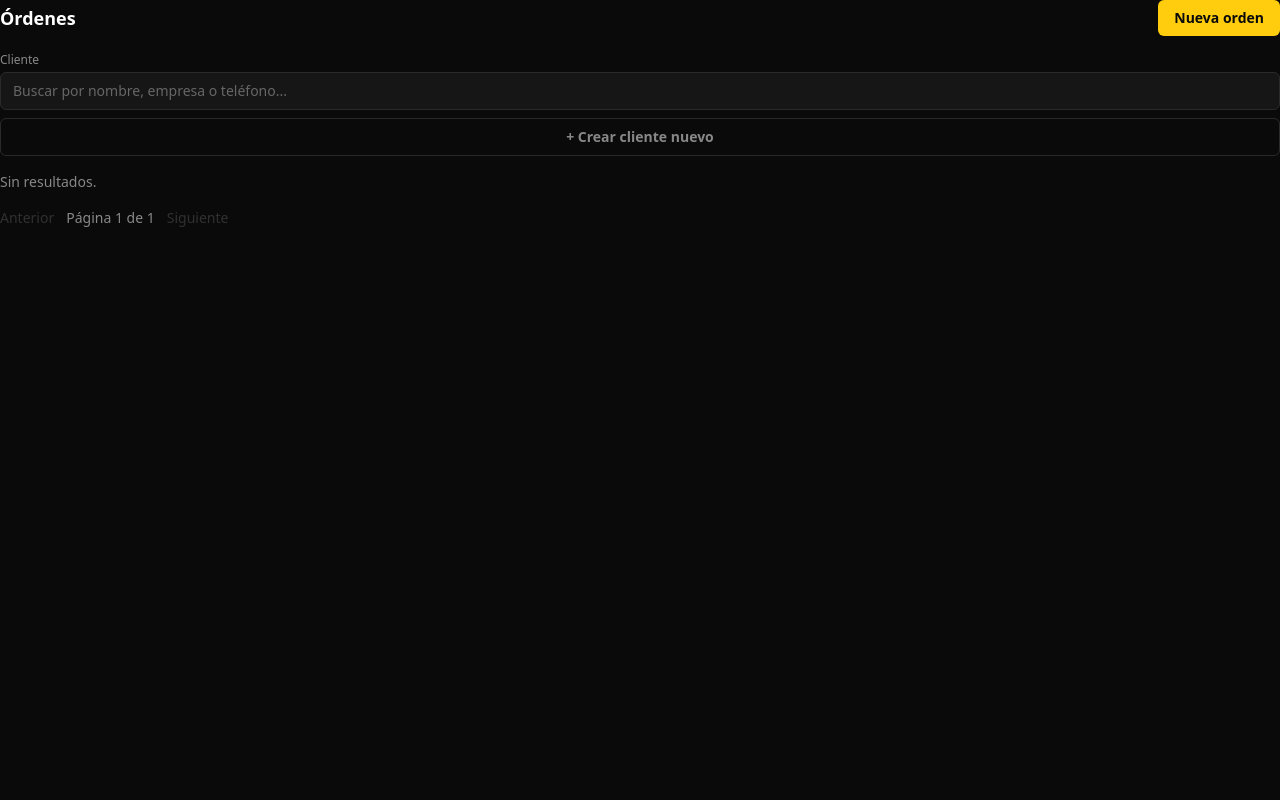
Test: OrdersPage + OrderFormModal (integración) › crear una orden para un cliente existente refresca la lista y descarga el comprobante
Expected: the text "Sin resultados." is shown, [0,172,96,191]
Click the button "Nueva orden". click: click(1219, 18)
box: [1158,0,1279,36]
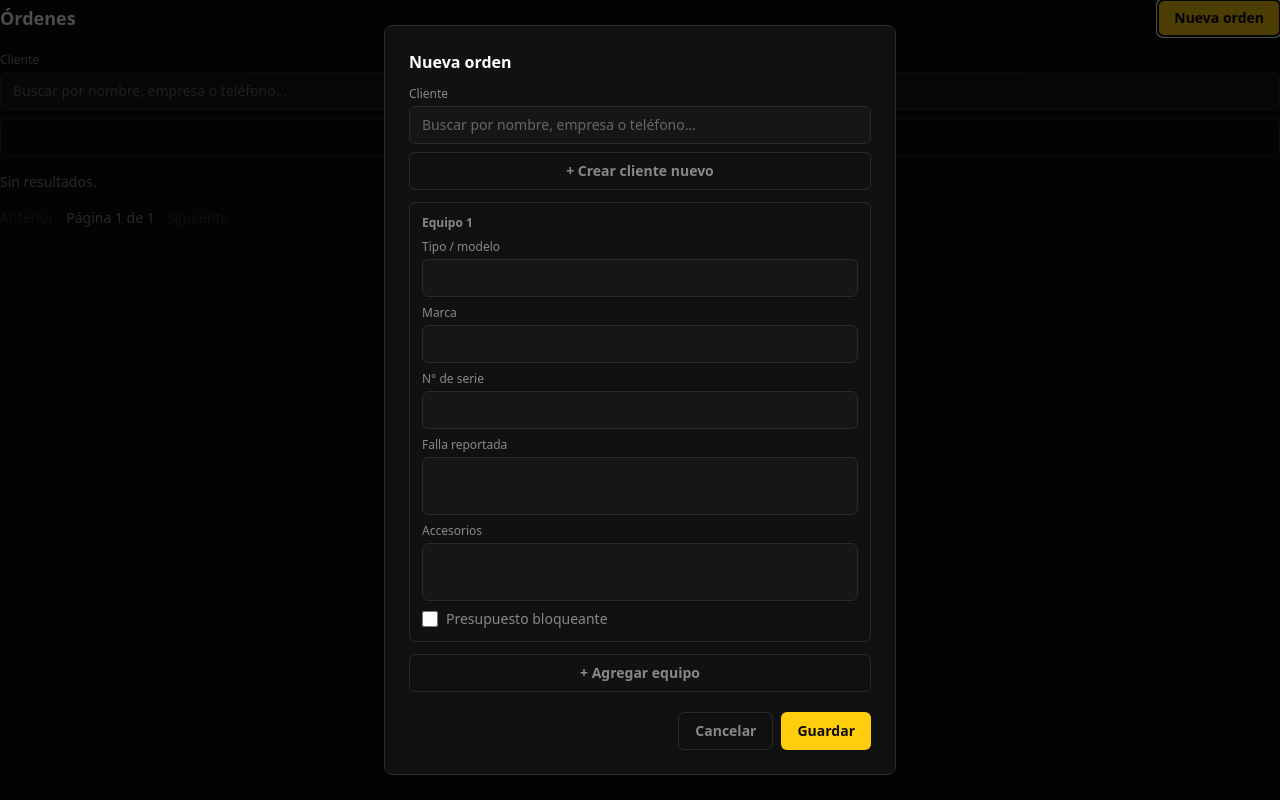
Type "Consola DMX" into the field labelled "Tipo / modelo". click: (640, 278)
box: [422,259,858,297]
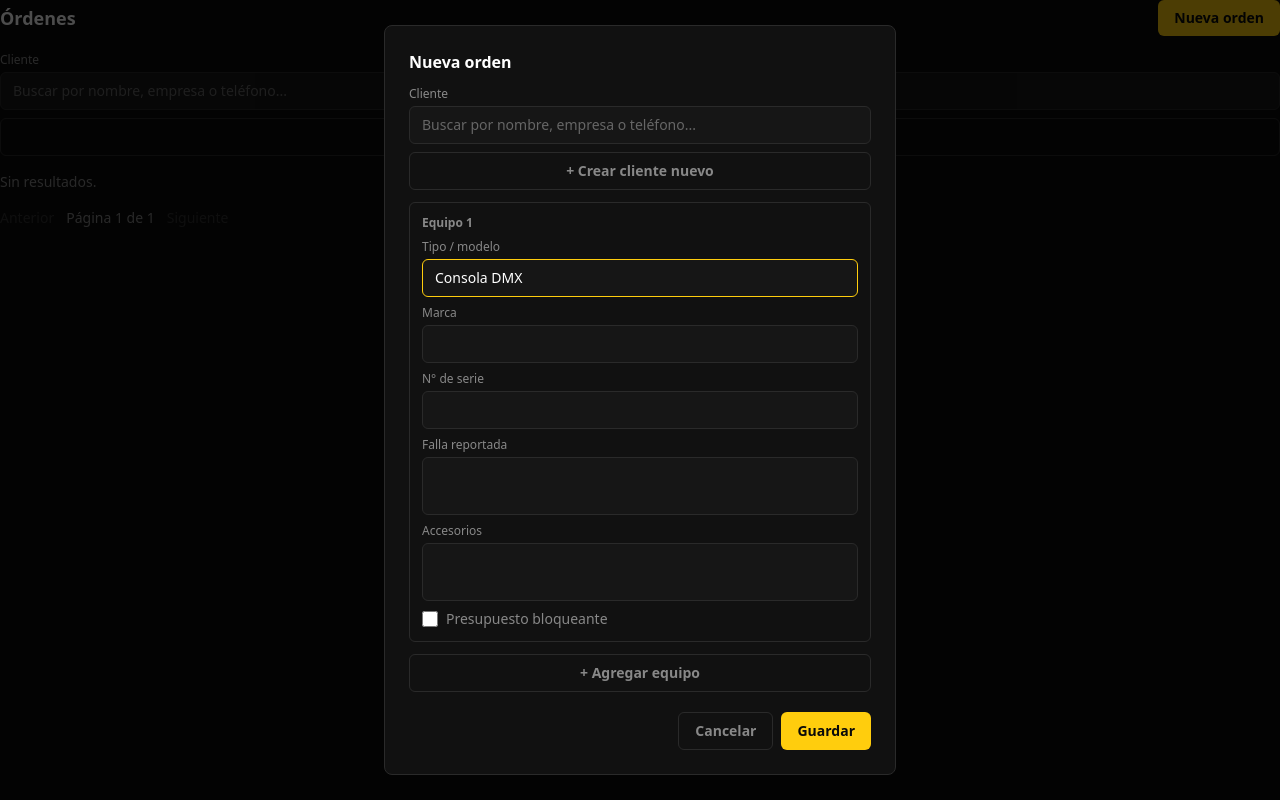
Type "No enciende" into the text box labelled "Falla reportada". click: (640, 486)
box: [422,457,858,515]
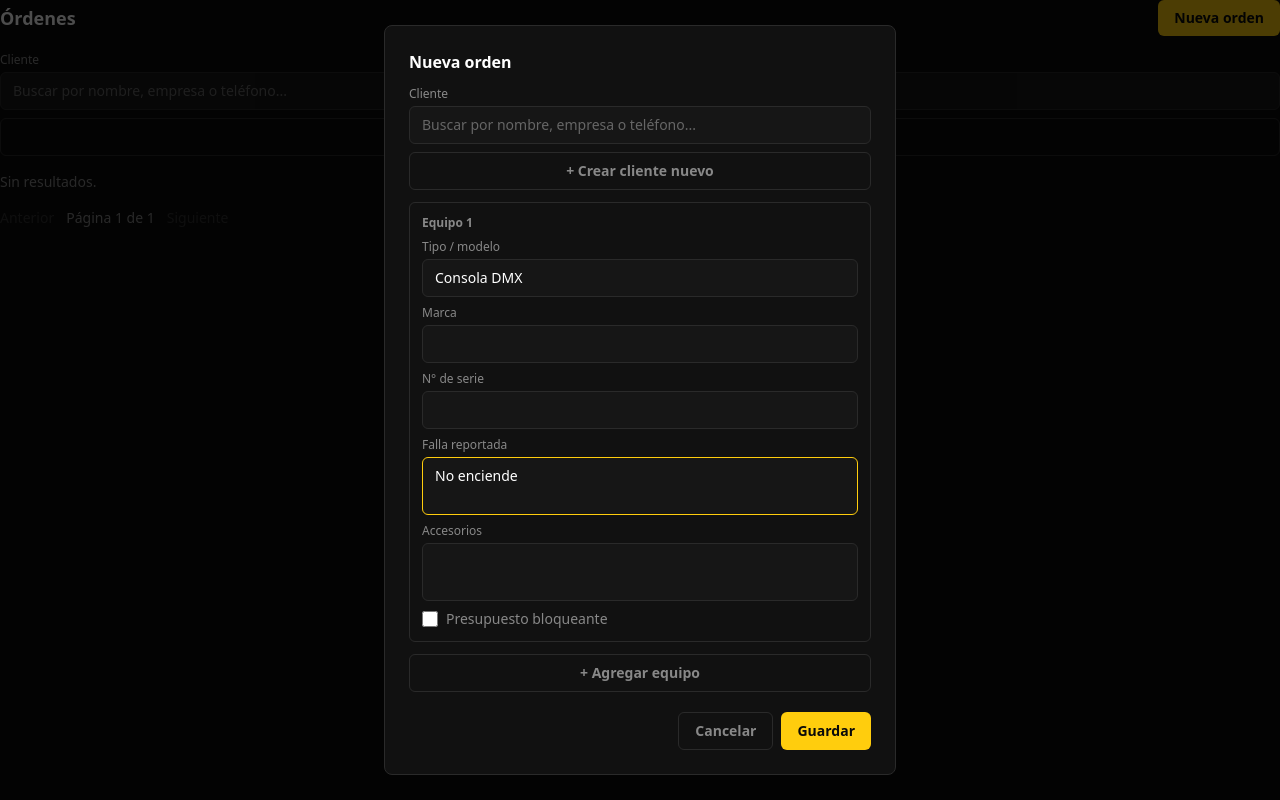
Type "ana" into the field labelled "Cliente". click: (640, 125)
box: [409,106,871,144]
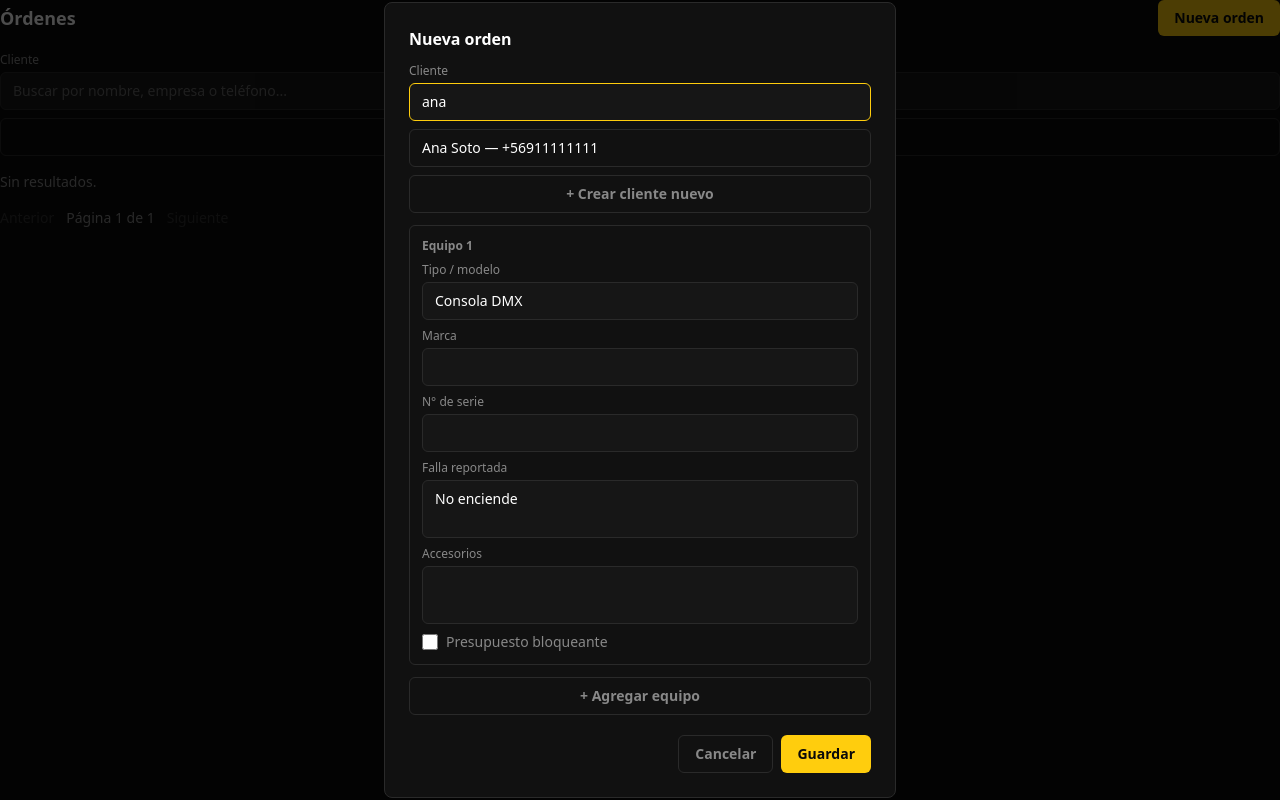
Click the button "Ana Soto — +56911111111". click: click(451, 148)
box: [410,130,870,166]
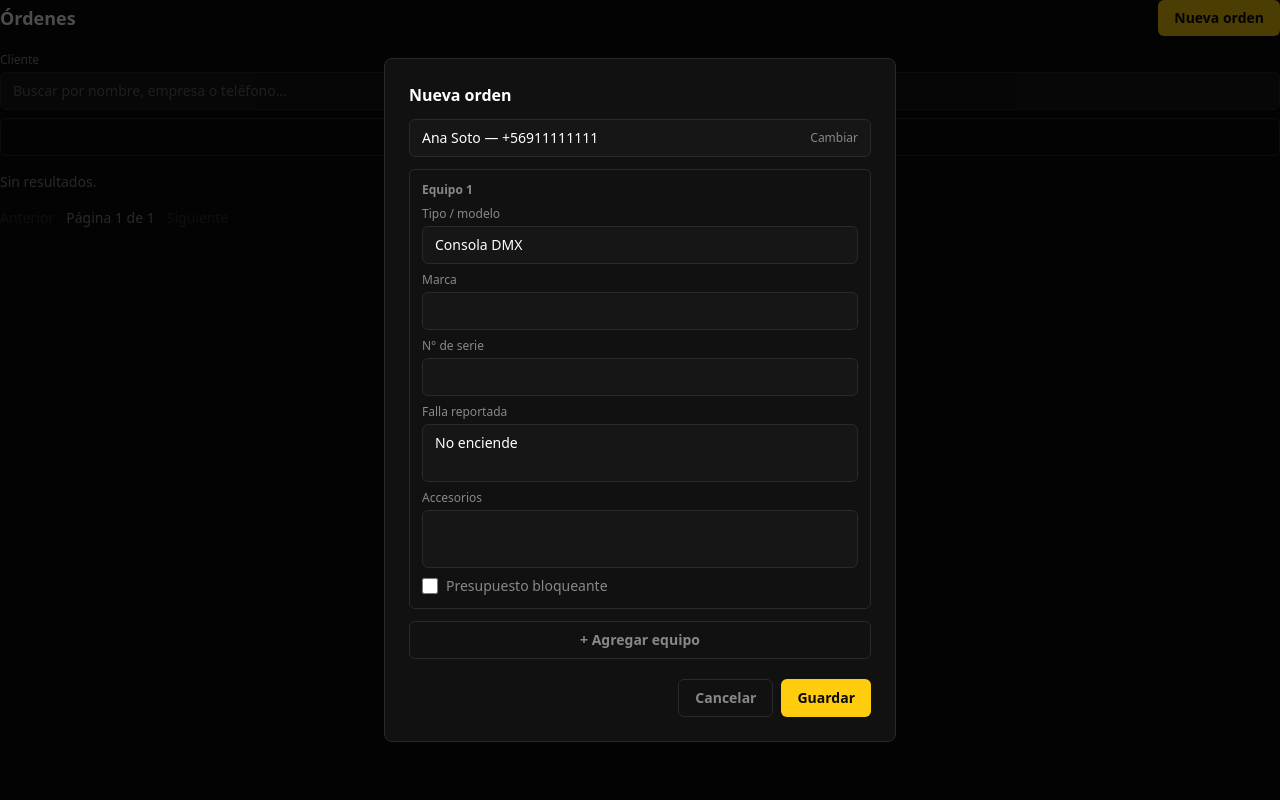
Click the button "Guardar". click: click(826, 698)
box: [782,679,871,717]
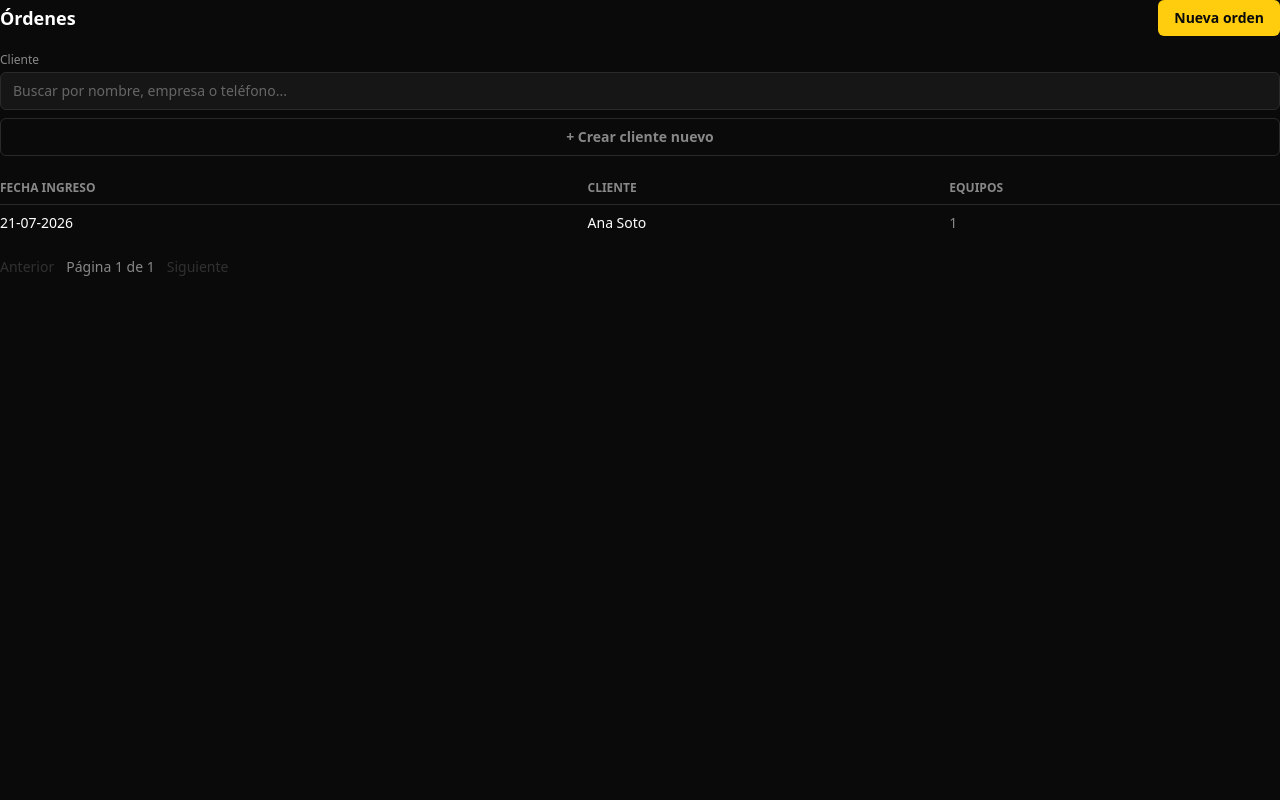
Now the link "Ana Soto" is shown, box [588,213,646,232]
Now the button "Guardar" is gone
